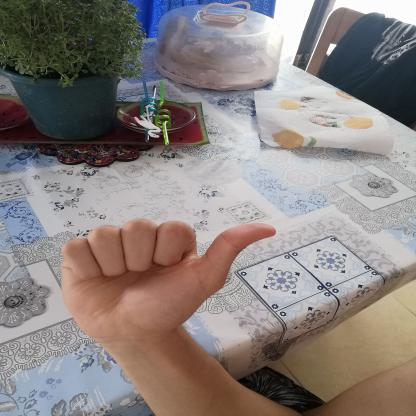DAD: (42, 209, 289, 352)
